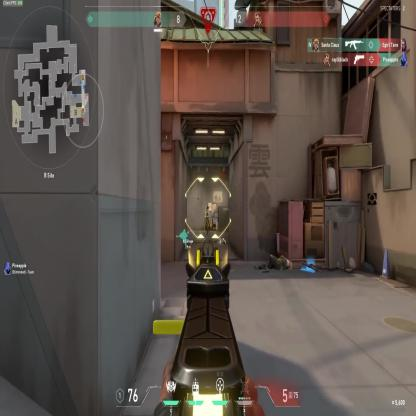enemy: (204, 206, 210, 234)
enemy_head: (206, 206, 208, 211)
